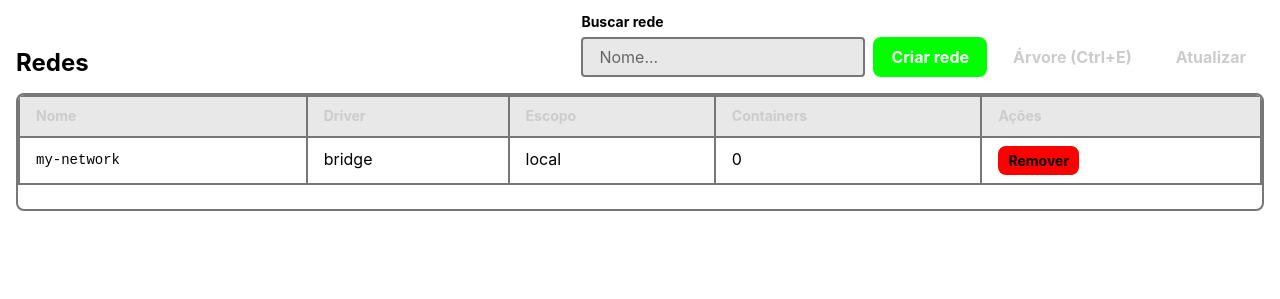
Test: Networks › tree toggle shows network tree
Click the button "Árvore (Ctrl+E)". click: [1072, 57]
box: [995, 37, 1150, 77]
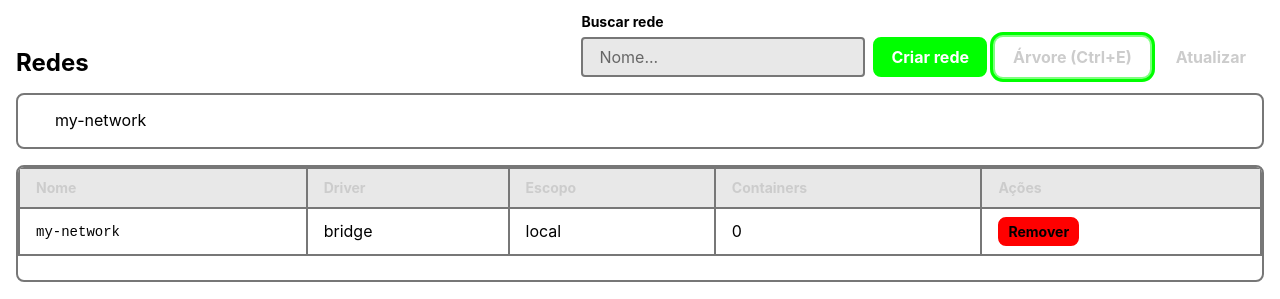
Expected: the list with test id "network-tree" is shown, [55, 110, 146, 130]
